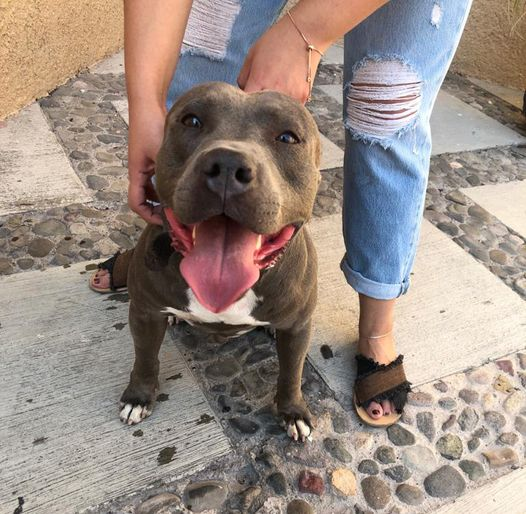dog: (85, 79, 337, 458)
